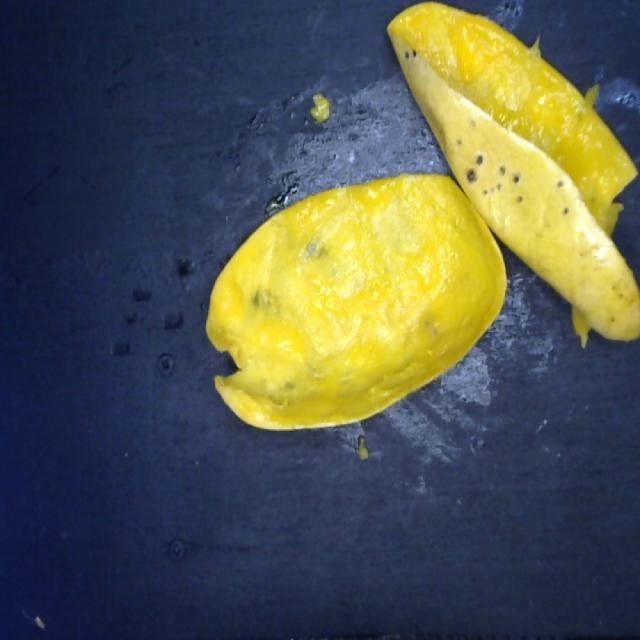biodegradable: (203, 0, 639, 439)
